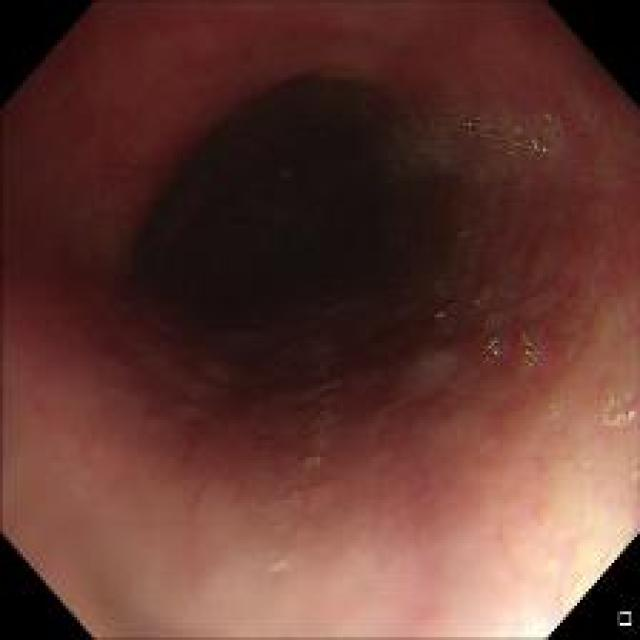bubbles: (456, 109, 618, 189), (359, 111, 505, 186), (484, 325, 545, 371), (596, 388, 635, 431), (258, 548, 284, 572)
color misalignment: (461, 116, 490, 136), (526, 140, 554, 155), (539, 109, 558, 125)
contrast: (114, 62, 461, 385)
saturation: (430, 558, 609, 636)
